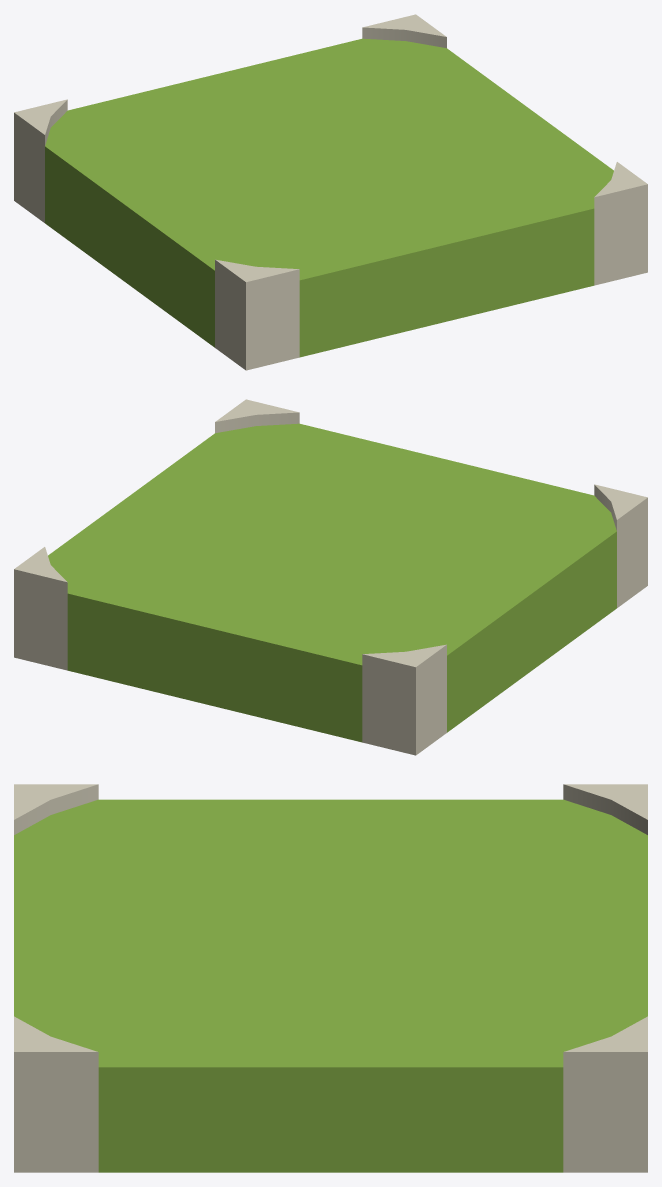
The model's file is tile092.fbx.
The picture shows the model from 3 angles, top to bottom: view 1: azimuth 30°, elevation 25°; view 2: azimuth 150°, elevation 25°; view 3: azimuth 270°, elevation 25°; orthographic projection. The views are drawn at different scales.
Visible parts, largest first — view 1: tile092; view 2: tile092; view 3: tile092.
Part boxes in pixels (x1=…): tile092: x1=14, y1=14, x2=647, y2=370; tile092: x1=14, y1=399, x2=647, y2=755; tile092: x1=14, y1=784, x2=647, y2=1172.
Size of the model in its own units: 10 by 2.1 by 10.
